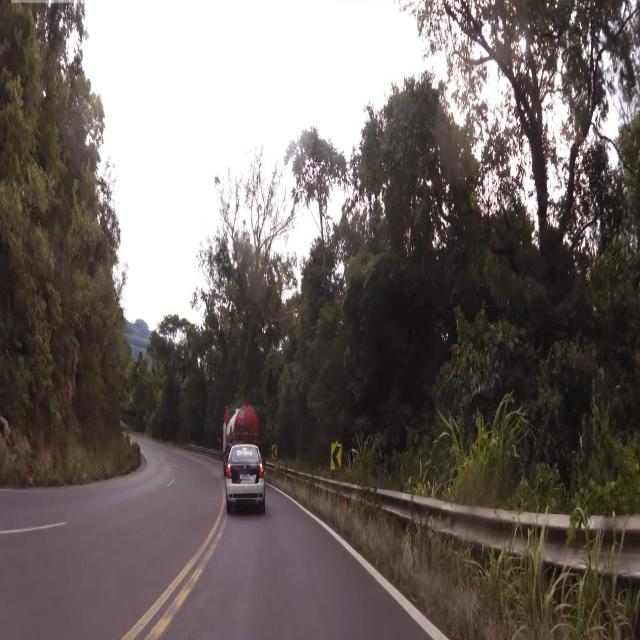Del: (330, 441, 341, 472)
